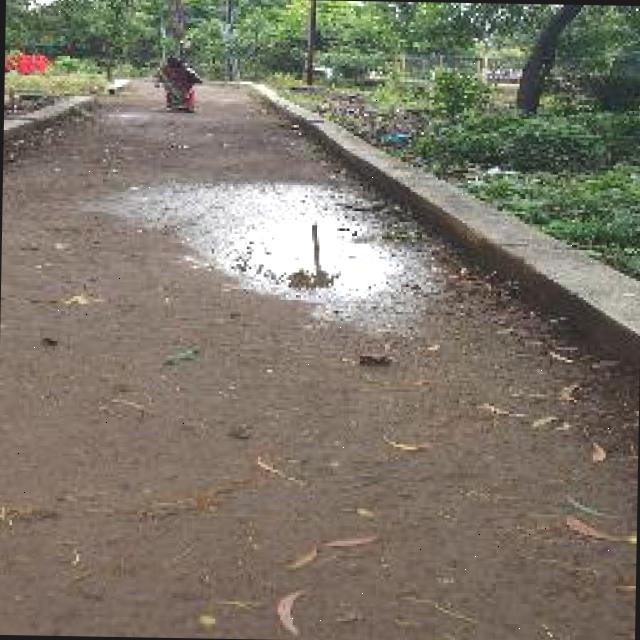stagnation: (65, 159, 482, 356)
